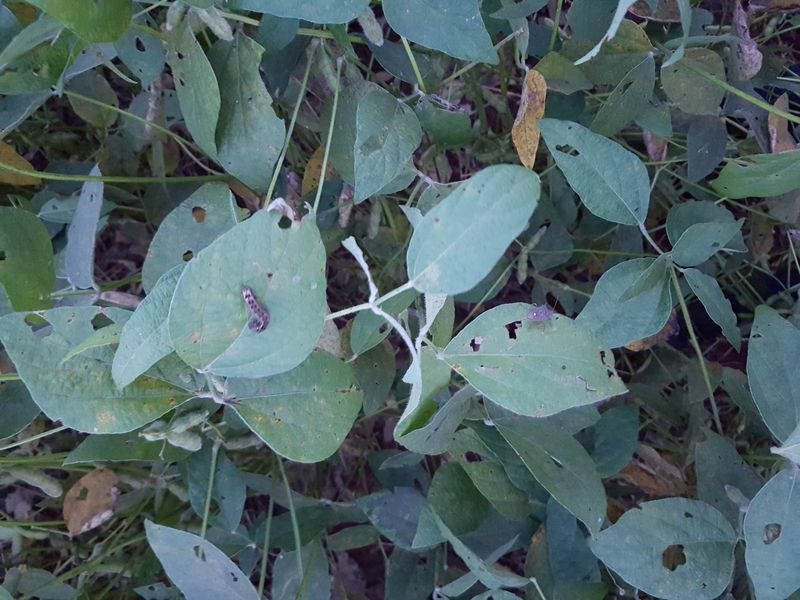Euschistus_heros_adulto: (518, 293, 565, 334)
Spodoptera_albula: (224, 281, 283, 342)
